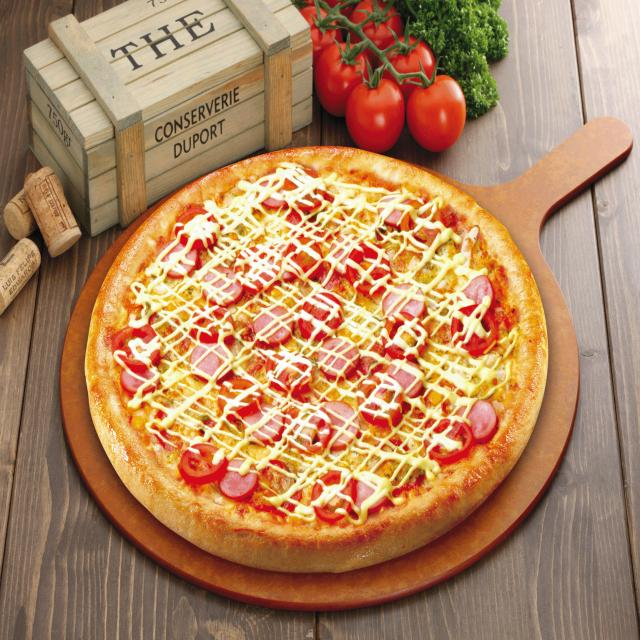Wet Waste: (80, 142, 553, 580)
